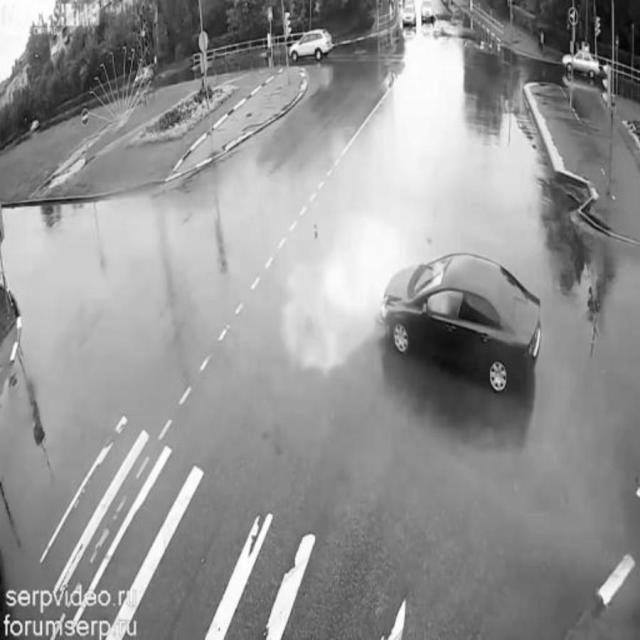vehicle: (379, 234, 545, 394), (290, 25, 334, 66), (566, 43, 604, 80), (402, 3, 417, 33)
